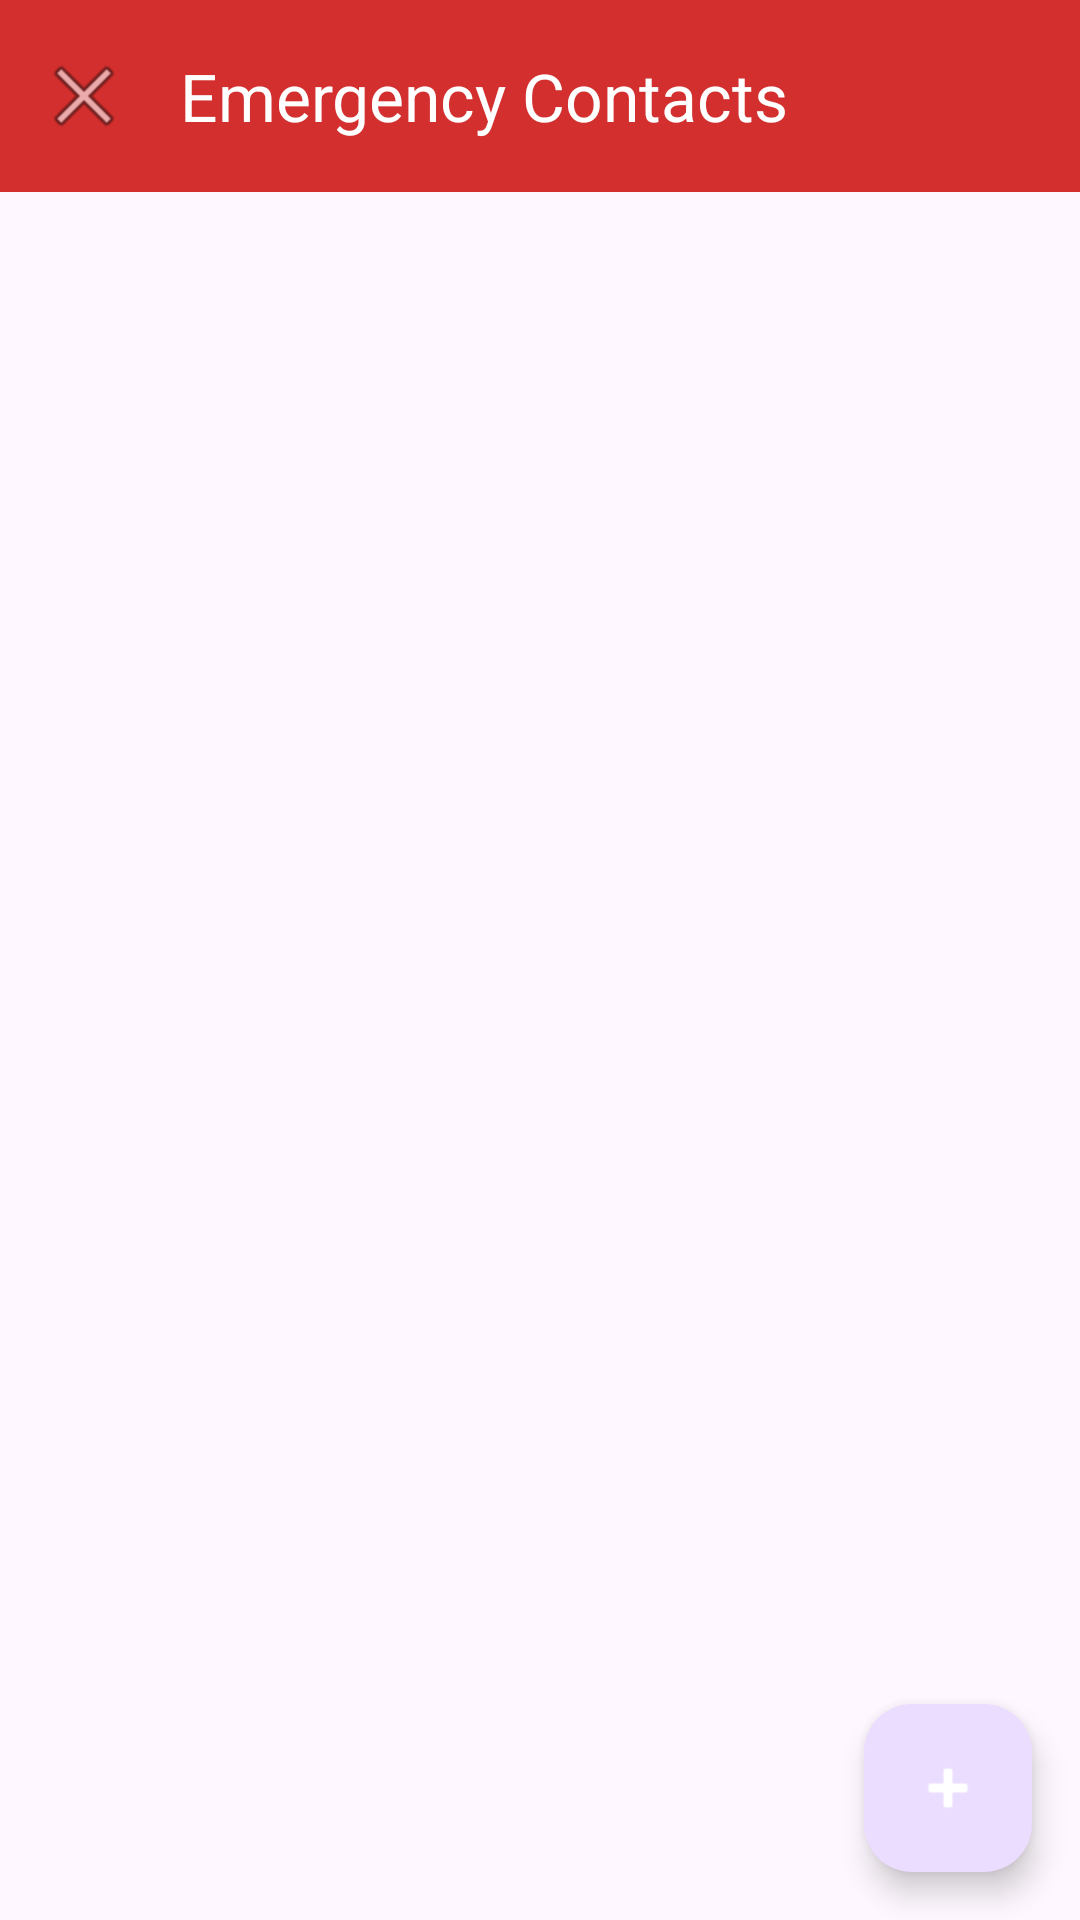

Where to tap for icons on this 1080w x 1920h app screen, as [x,y]:
Add Contact: [948,1788]
